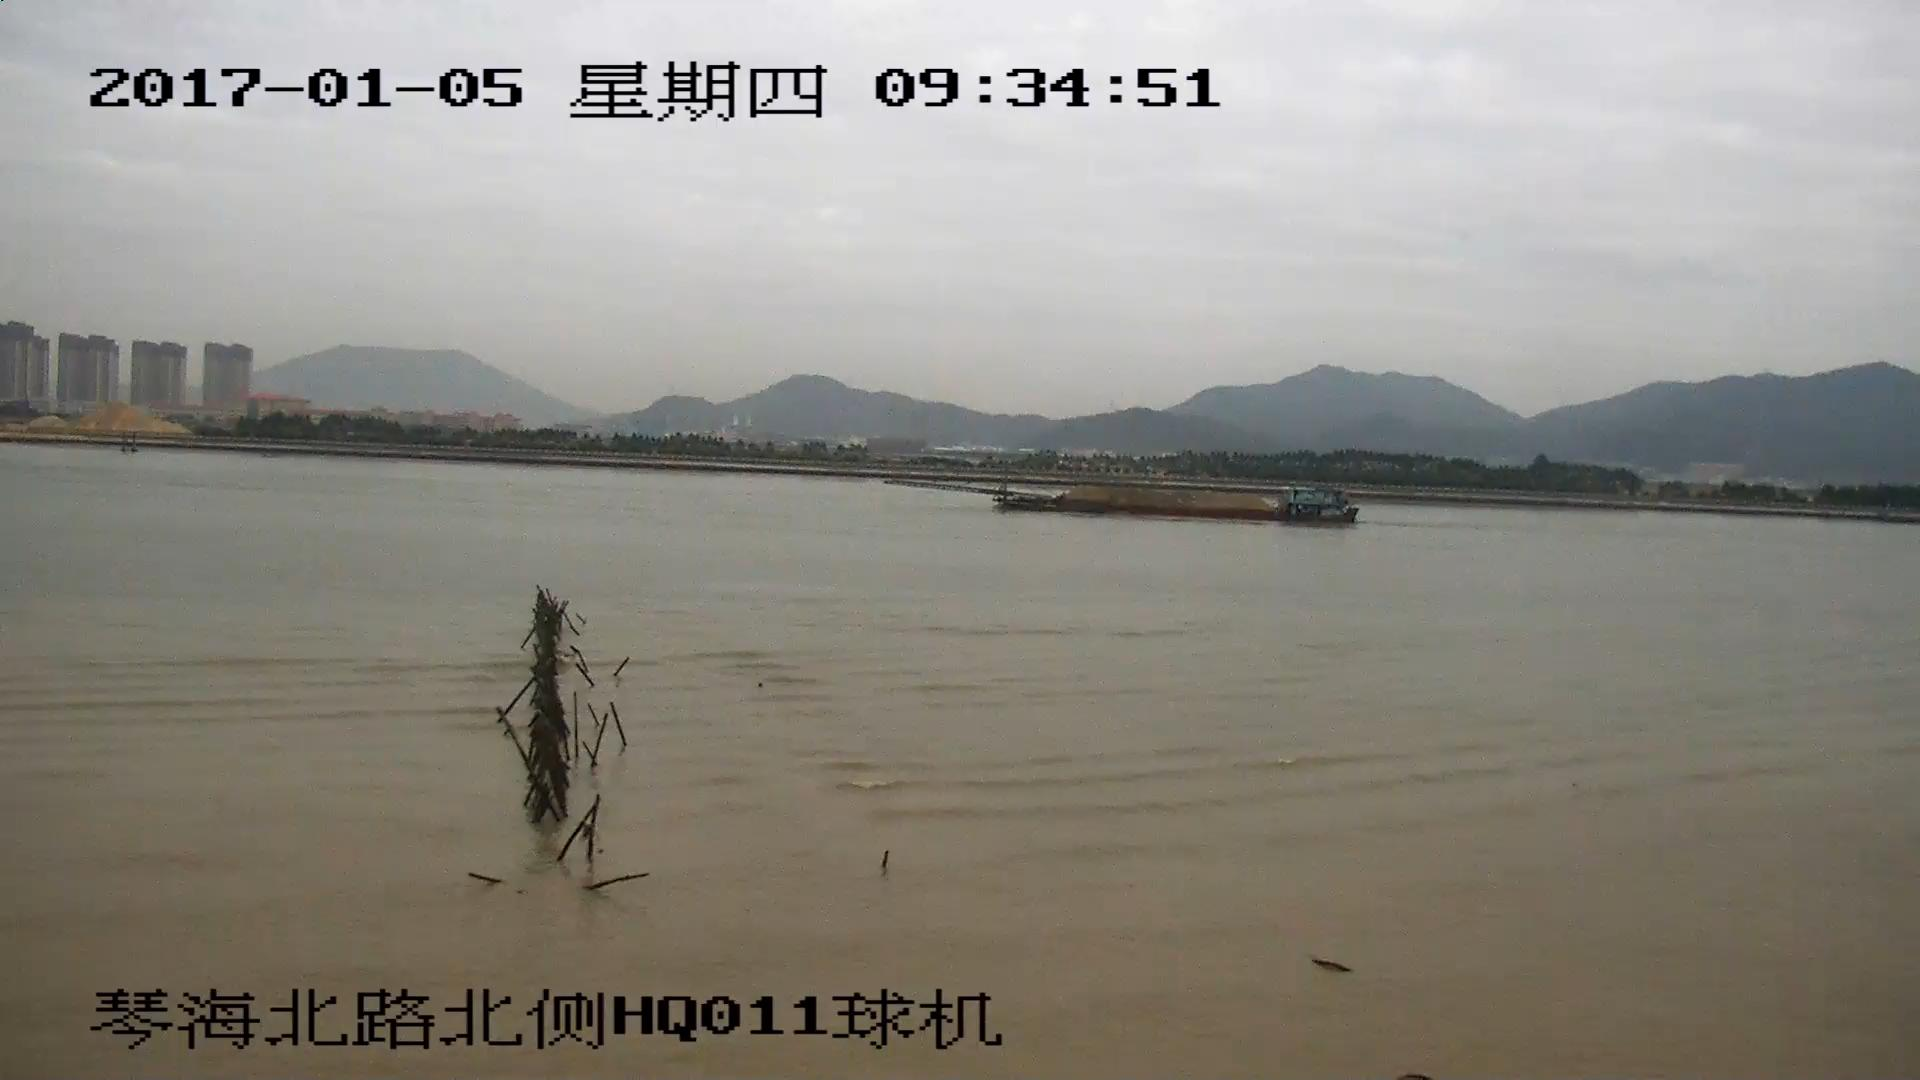ore carrier: (886, 468, 1352, 526)
